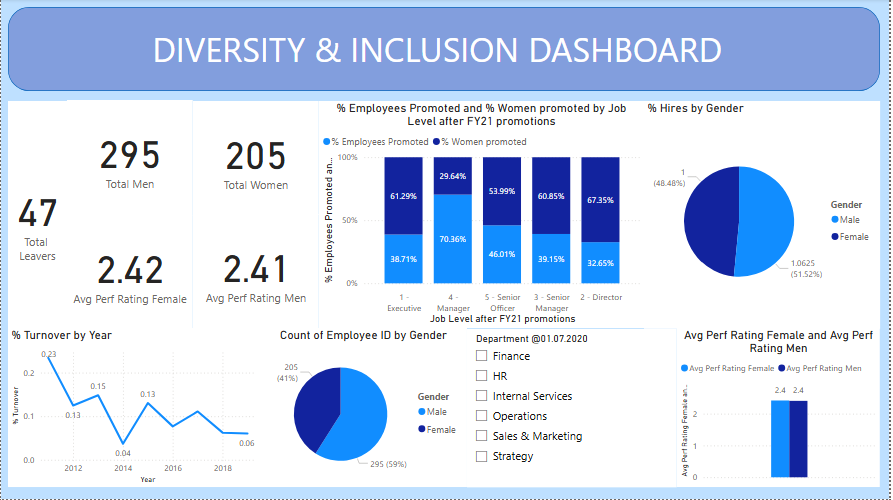

What the dashboard file says about the page in this screenshot:
{"tool":"powerbi","page":{"name":"Page 2","canvas":[1280,720],"ordinal":0},"visuals":[{"type":"pieChart","fields":{"Category":["Pharma Group AG.Gender"],"Y":["CountNonNull(Pharma Group AG.Employee ID)"]},"box":[373,473.8,298.1,229],"z":0},{"type":"hundredPercentStackedColumnChart","fields":{"Y":["Pharma Group AG.% Employees Promoted","Pharma Group AG.% Women promoted"],"Category":["Pharma Group AG.Job Level after FY21 promotions"]},"box":[457.9,146.9,468,326.9],"z":1000},{"type":"lineChart","fields":{"Y":["Pharma Group AG.% Turnover"],"Category":["Pharma Group AG.Last hire date.Variation.Date Hierarchy.Year"]},"box":[10.1,473.8,362.9,229],"z":2000},{"type":"lineClusteredColumnComboChart","fields":{"Y":["Pharma Group AG.Avg Perf Rating Female","Pharma Group AG.Avg Perf Rating Men"]},"box":[973.4,473.8,292.3,229],"z":4000},{"type":"slicer","fields":{"Values":["Pharma Group AG.Department @01.07.2020"]},"box":[671,475.2,302.4,227.5],"z":5000},{"type":"card","fields":{"Values":["Pharma Group AG.Total Men"]},"box":[95,145.4,181.4,165.6],"z":6000},{"type":"card","fields":{"Values":["Pharma Group AG.Total Women"]},"box":[276.5,146.9,181.4,164.2],"z":7000},{"type":"card","fields":{"Values":["Pharma Group AG.Total Leavers"]},"box":[10.1,146.9,85,328.3],"z":8000},{"type":"card","fields":{"Values":["Pharma Group AG.Avg Perf Rating Female"]},"box":[95,311,181.4,164.2],"z":9000},{"type":"card","fields":{"Values":["Pharma Group AG.Avg Perf Rating Men"]},"box":[276.5,309.6,181.4,165.6],"z":10000},{"type":"shape","box":[10.1,11.5,1255.7,121],"z":11000},{"type":"textbox","box":[213.1,33.1,915.8,76.3],"z":12000},{"type":"pieChart","title":"% Hires by Gender","fields":{"Y":["Pharma Group AG.% Hires Women"],"Category":["Pharma Group AG.Gender"]},"box":[925.9,146.9,339.8,328.3],"z":12001}]}

Visuals, with their boxes in screenshot pixels (x1, y1, x2, y2), scaled from the page's 1280x720 canvas onto the 893x500 screenshot:
pieChart - Pharma Group AG.Gender x CountNonNull(Pharma Group AG.Employee ID): (260, 329, 468, 488)
hundredPercentStackedColumnChart - Pharma Group AG.% Employees Promoted x Pharma Group AG.% Women promoted: (319, 102, 646, 329)
lineChart - Pharma Group AG.% Turnover x Pharma Group AG.Last hire date.Variation.Date Hierarchy.Year: (7, 329, 260, 488)
lineClusteredColumnComboChart - Pharma Group AG.Avg Perf Rating Female x Pharma Group AG.Avg Perf Rating Men: (679, 329, 883, 488)
slicer - Pharma Group AG.Department @01.07.2020: (468, 330, 679, 488)
card - Pharma Group AG.Total Men: (66, 101, 193, 216)
card - Pharma Group AG.Total Women: (193, 102, 319, 216)
card - Pharma Group AG.Total Leavers: (7, 102, 66, 330)
card - Pharma Group AG.Avg Perf Rating Female: (66, 216, 193, 330)
card - Pharma Group AG.Avg Perf Rating Men: (193, 215, 319, 330)
shape: (7, 8, 883, 92)
textbox: (149, 23, 788, 76)
"% Hires by Gender" pieChart: (646, 102, 883, 330)
